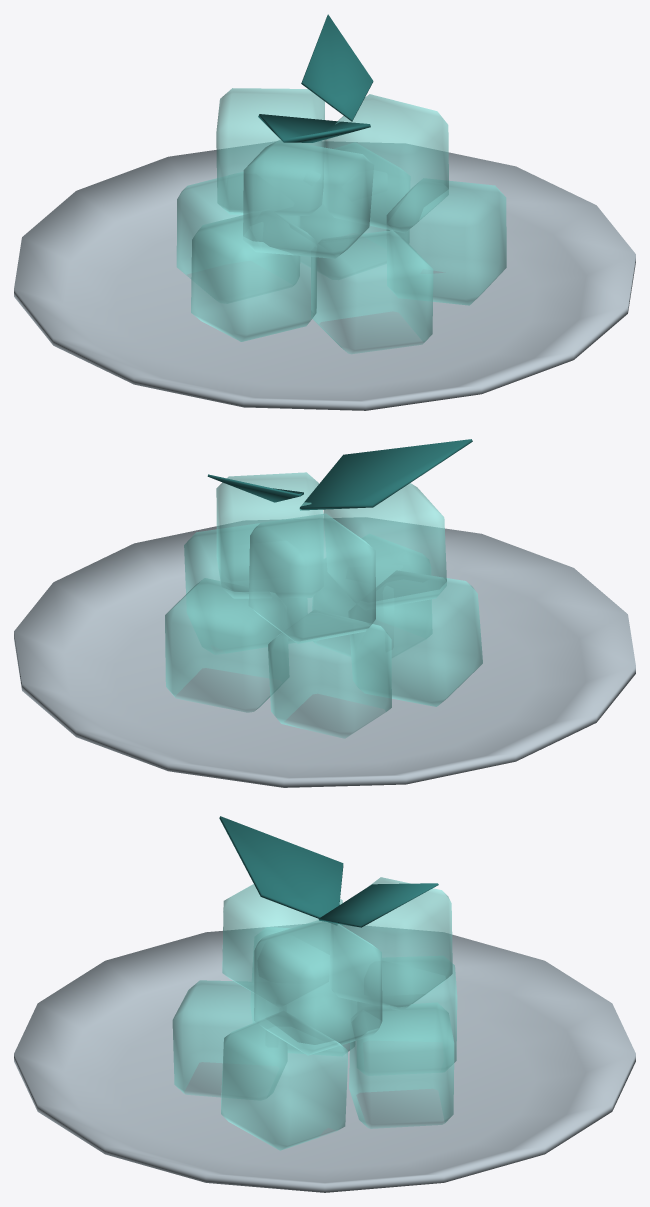
Rendered from alchemy_glassFruit_chopped.fbx.
3 views of the same model, one above another, from view 1: azimuth 30°, elevation 25°; view 2: azimuth 150°, elevation 25°; view 3: azimuth 270°, elevation 25° (orthographic).
Parts seen in each view (by area): view 1: PlateModel, CubeFruitModel; view 2: PlateModel, CubeFruitModel; view 3: PlateModel, CubeFruitModel.
Part boxes in pixels (x1,y1,x2,y2): PlateModel: (14,141,635,410); CubeFruitModel: (176,14,506,353); PlateModel: (14,517,635,787); CubeFruitModel: (165,439,482,738); PlateModel: (14,924,635,1192); CubeFruitModel: (172,816,457,1150).
Bounding box in the file's own units: 1383 × 598 × 1383.
